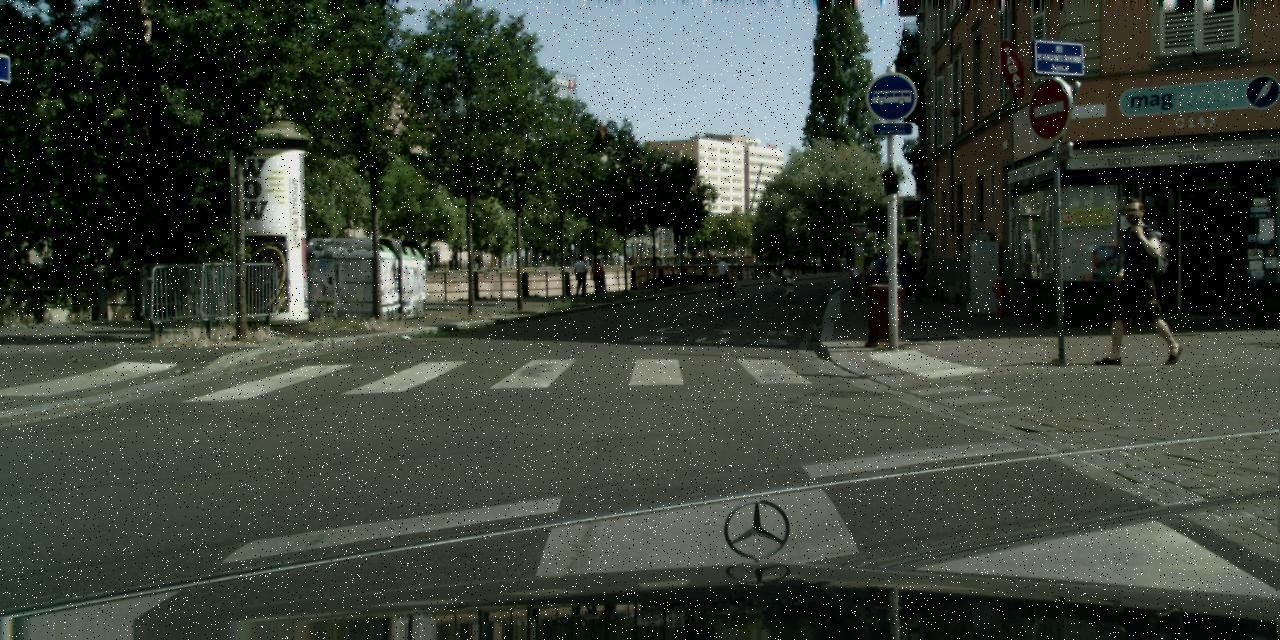ped: (1106, 198, 1173, 363), (894, 244, 916, 302), (882, 250, 902, 299), (871, 248, 890, 294), (911, 254, 930, 300), (778, 257, 796, 302), (717, 256, 733, 297), (864, 252, 880, 293), (573, 256, 588, 296), (592, 258, 606, 294), (845, 263, 859, 297), (840, 256, 846, 270)
